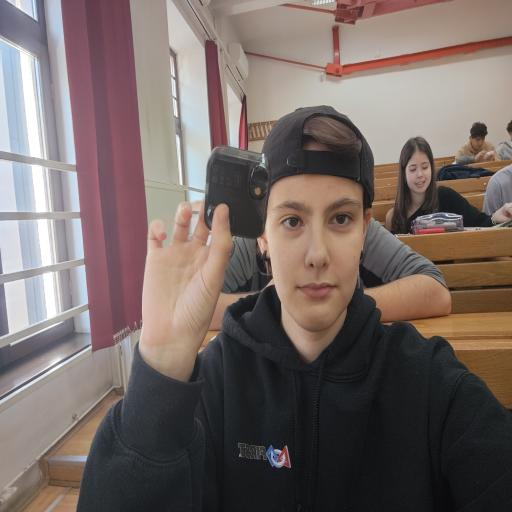Headphones: (200, 146, 272, 240)
